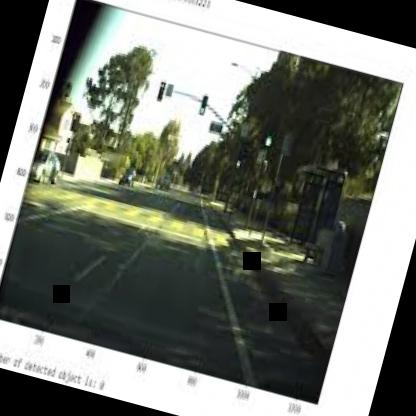car: (25, 136, 74, 200), (150, 155, 180, 200), (110, 160, 147, 192)
